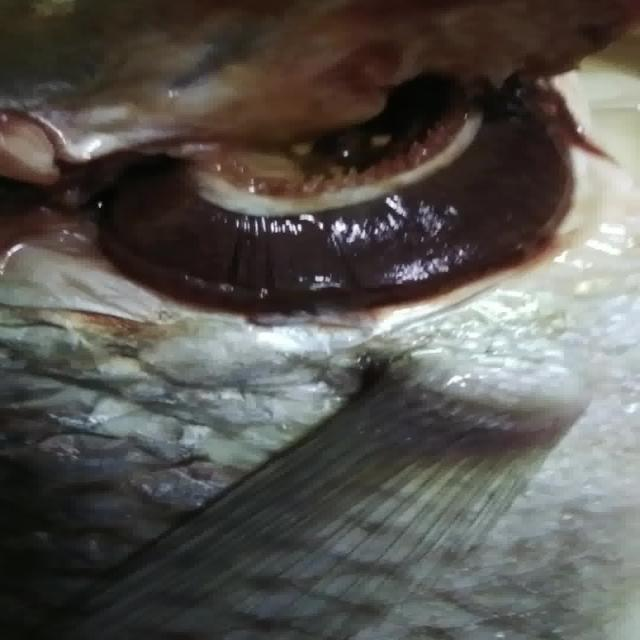Non-Fresh: (20, 7, 610, 359)
